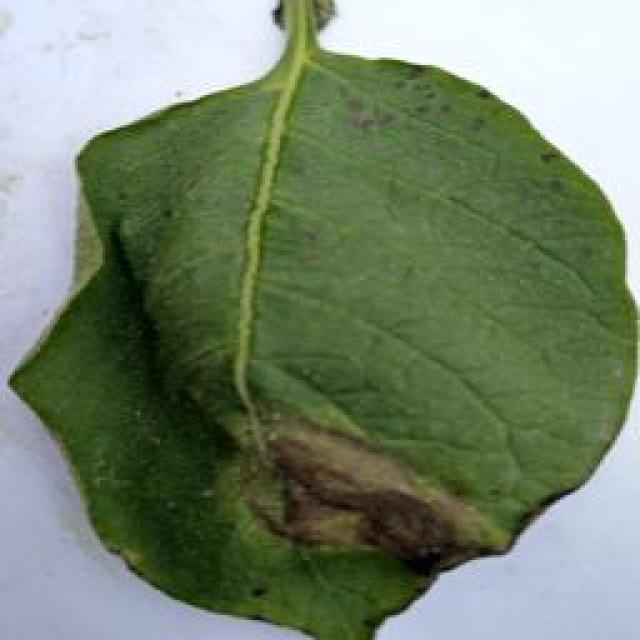Potato_Late_Blight: (11, 9, 626, 637)
